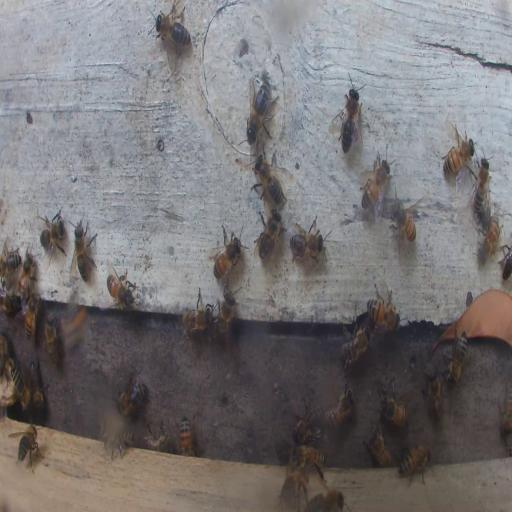bee: (359, 150, 393, 219), (331, 79, 364, 150), (154, 0, 192, 54), (245, 79, 278, 141), (211, 223, 245, 280), (71, 215, 98, 285), (252, 154, 286, 205), (442, 126, 474, 180), (255, 206, 283, 264), (388, 194, 419, 246), (288, 216, 324, 260), (398, 443, 432, 488), (12, 423, 43, 472), (38, 208, 66, 260), (181, 292, 214, 336), (62, 301, 89, 352), (324, 385, 355, 429), (107, 266, 136, 311), (339, 325, 370, 367), (5, 359, 30, 409), (444, 331, 468, 383), (423, 371, 446, 423), (292, 403, 321, 444), (477, 213, 500, 263), (116, 378, 147, 415), (379, 390, 408, 428), (279, 470, 308, 508), (366, 428, 394, 467), (288, 446, 326, 474), (474, 156, 490, 217), (368, 299, 398, 331), (103, 427, 132, 459), (216, 294, 234, 344), (144, 420, 173, 451), (30, 358, 46, 412), (23, 293, 40, 340), (309, 490, 344, 511), (499, 381, 511, 442), (0, 246, 20, 282), (19, 253, 34, 298), (44, 316, 58, 360), (178, 418, 193, 456), (500, 246, 512, 278), (1, 291, 17, 311)
